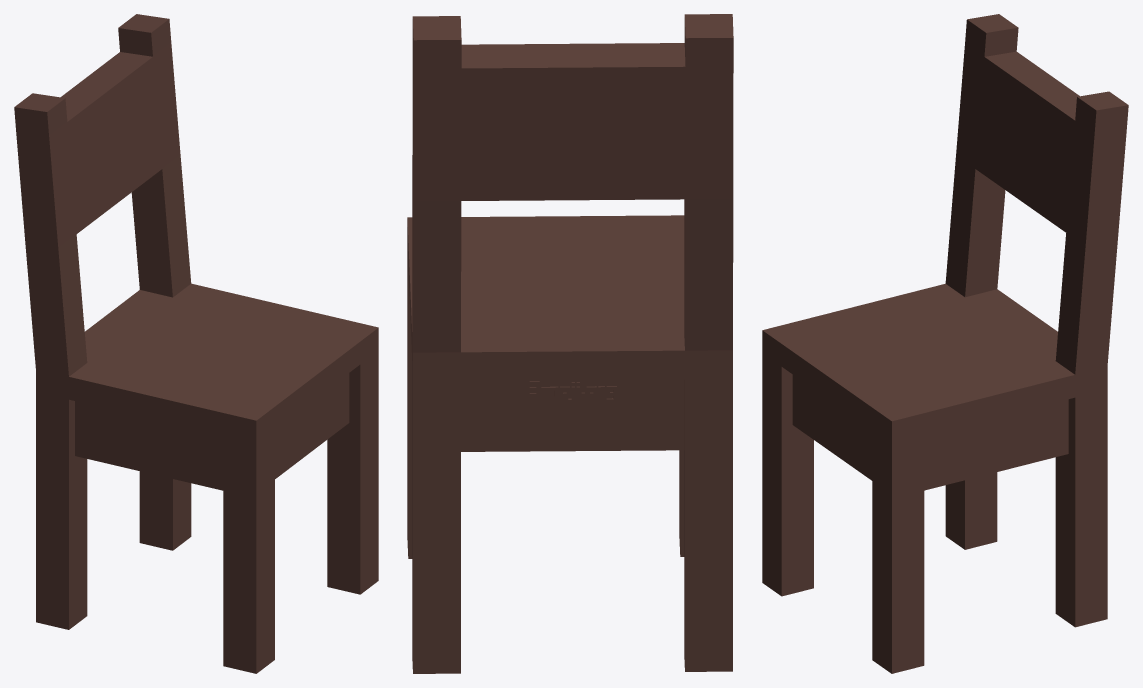
File: chair.glb
3 views of the same model, side by side, from view 1: azimuth 30°, elevation 25°; view 2: azimuth 150°, elevation 25°; view 3: azimuth 270°, elevation 25° (orthographic). The views are drawn at different scales.
Visible parts, largest first — view 1: Cube.237; view 2: Cube.237; view 3: Cube.237.
Part boxes in pixels (box(x1,y1,x2,y2)): Cube.237: box(14, 14, 378, 673); Cube.237: box(407, 14, 733, 673); Cube.237: box(762, 14, 1128, 673).
Bounding box in the file's own units: 1.38 × 2.17 × 1.41.
1 material, 1 textured.
